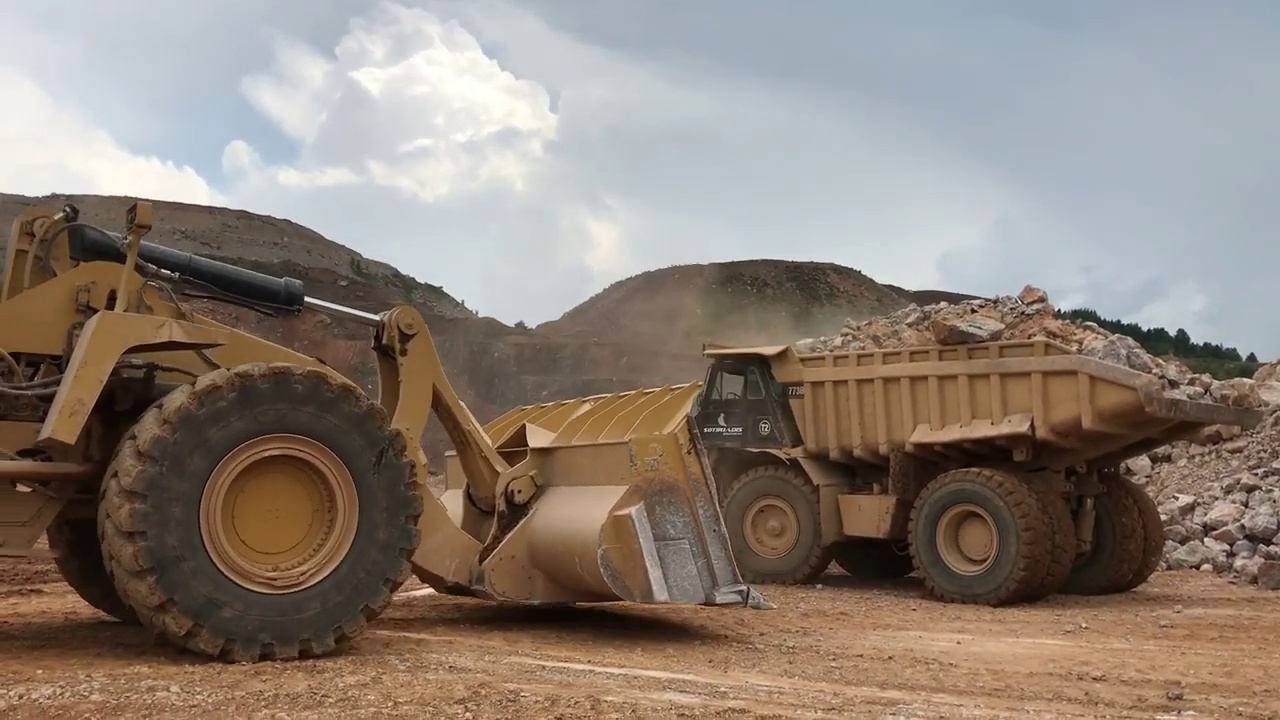dumper: (697, 296, 1265, 604)
wheel loader: (1, 194, 777, 660)
